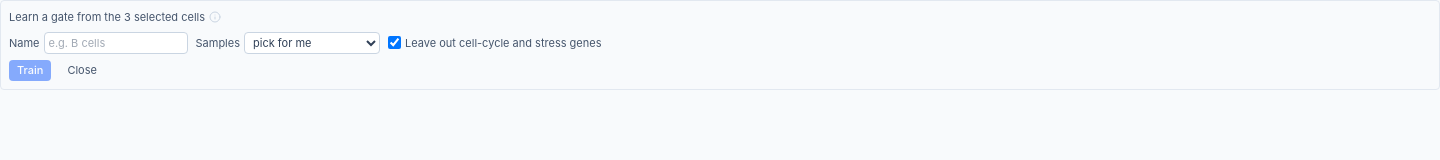
it: LearnedGateForm › asks the server to pick the sample column by default, and Cancel aborts the run
Type "x" into the field labelled "Name".
click(116, 43); type("x")  # box [44,32,188,54]
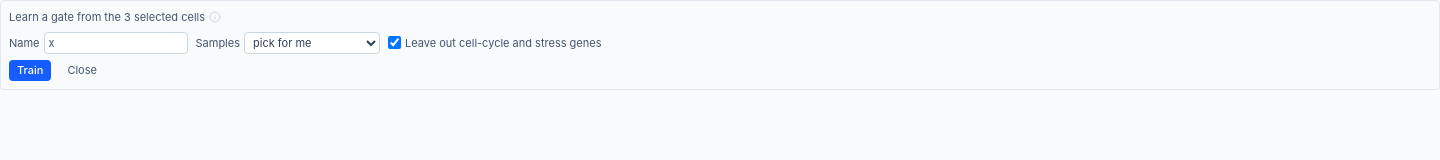
Click the button "Train".
click(30, 70)  # box [9,60,51,80]
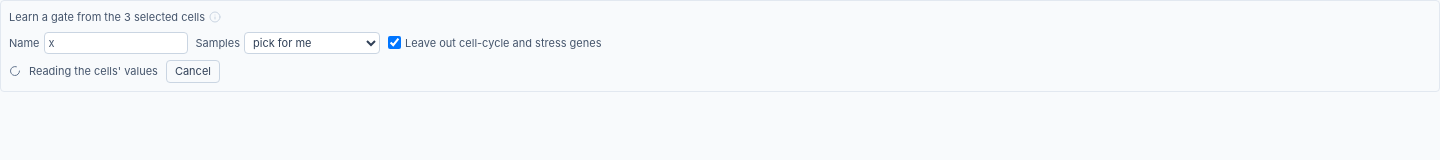
Click the button "Cancel".
click(193, 71)  # box [166,60,220,82]
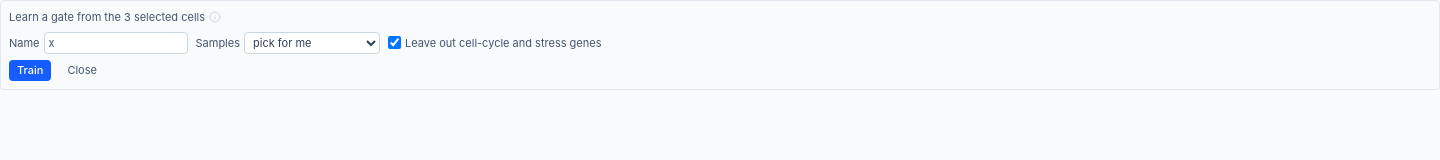
Now the button "Train" is shown, box [9,60,51,80]
Now the message "Reading the cells' values" is gone
